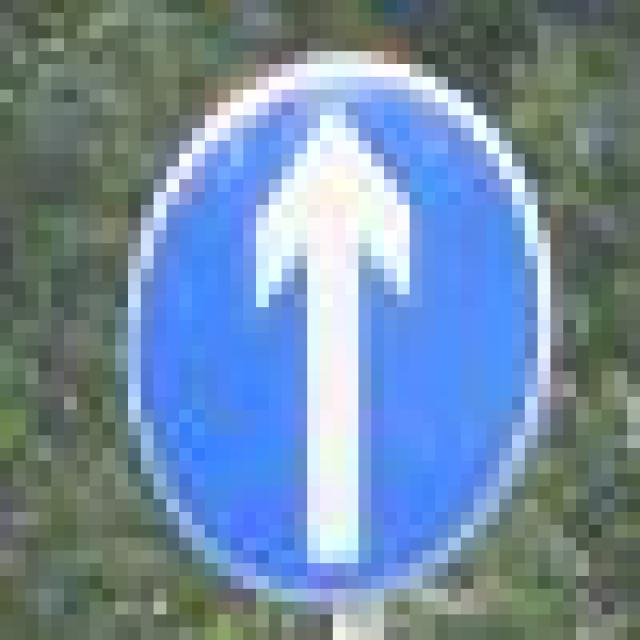COMPULSORY_AHEAD: (112, 65, 548, 605)
